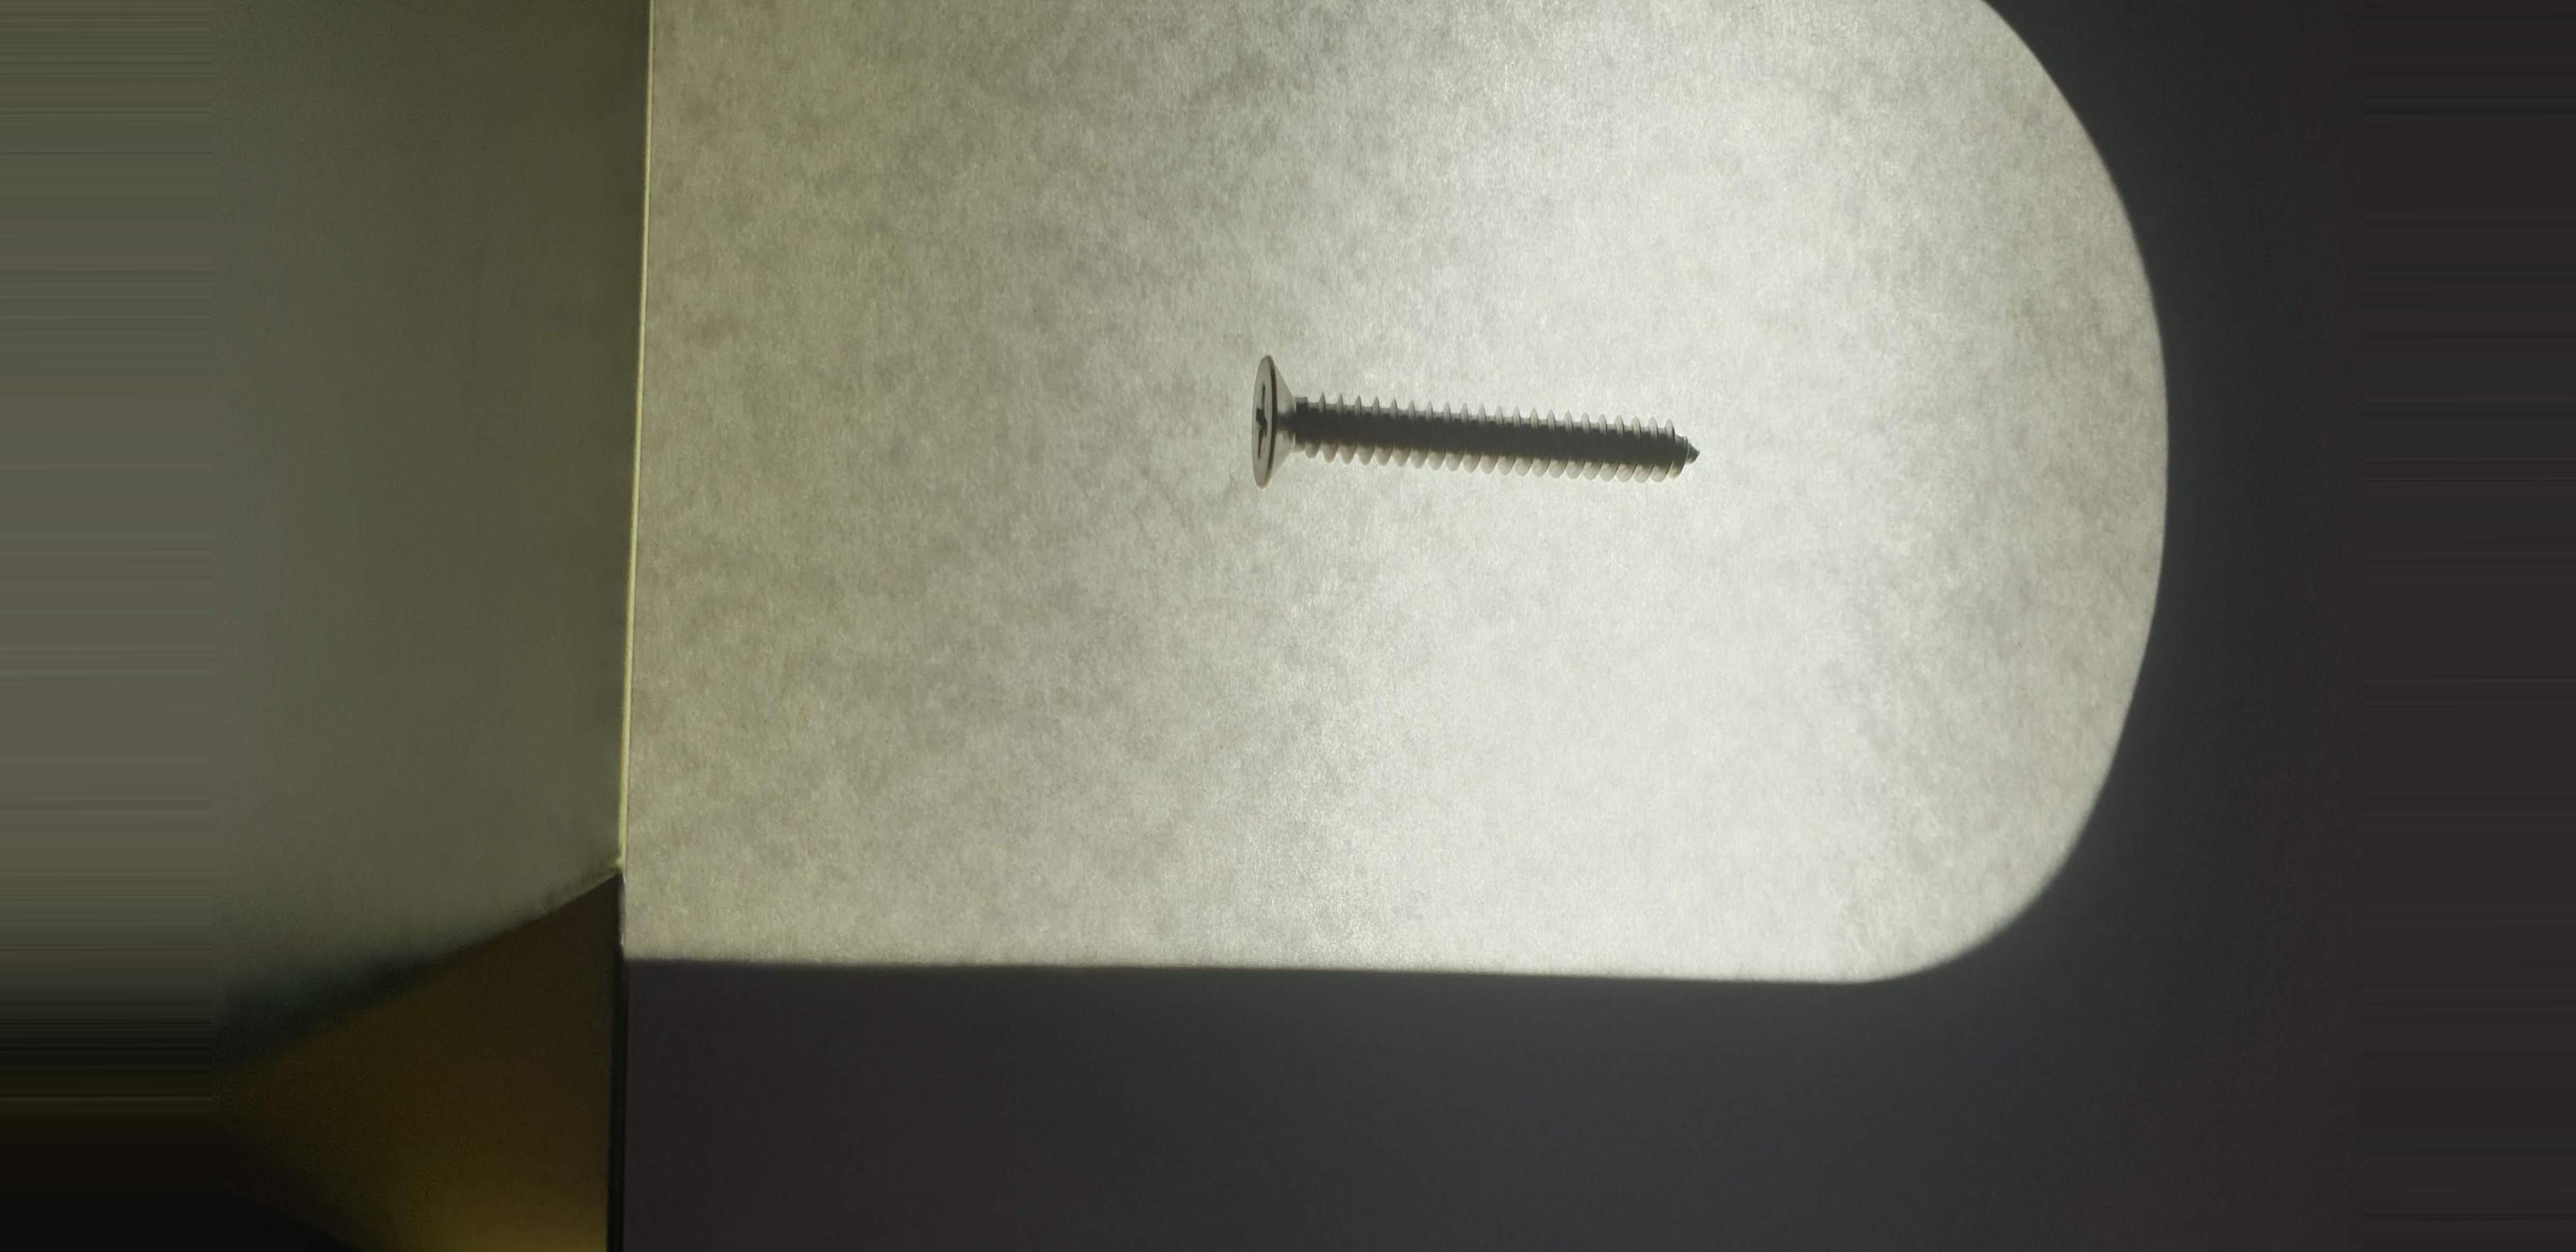S001: (1204, 325, 1740, 539)
